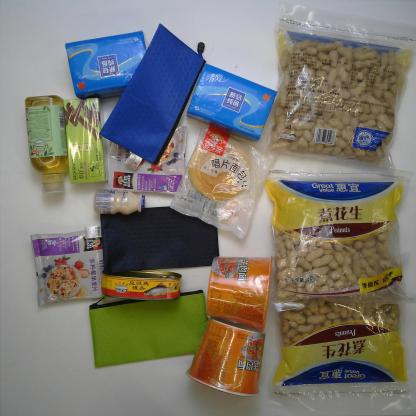Canned Food: (99, 267, 184, 301)
Dessert: (171, 122, 286, 240)
Dried Food: (263, 7, 415, 173), (262, 170, 414, 313), (268, 296, 413, 412)
Drink: (22, 93, 71, 197)
Instant Drink: (28, 223, 108, 307), (106, 122, 190, 197), (62, 96, 108, 184)
Instant Noodles: (187, 315, 266, 398), (205, 254, 273, 334)
Milk: (92, 185, 148, 218)
Stationery: (100, 23, 206, 170), (88, 287, 211, 369), (96, 202, 226, 276)
Tissue: (187, 58, 278, 141), (64, 31, 152, 104)
